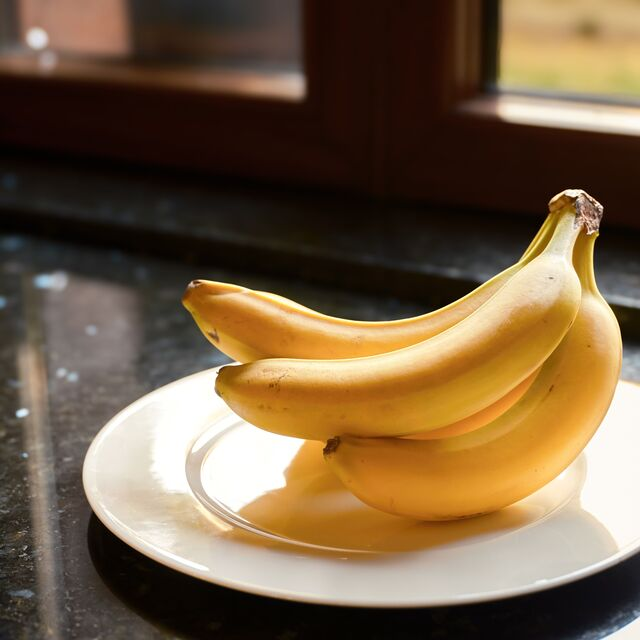banana: (175, 194, 622, 521)
